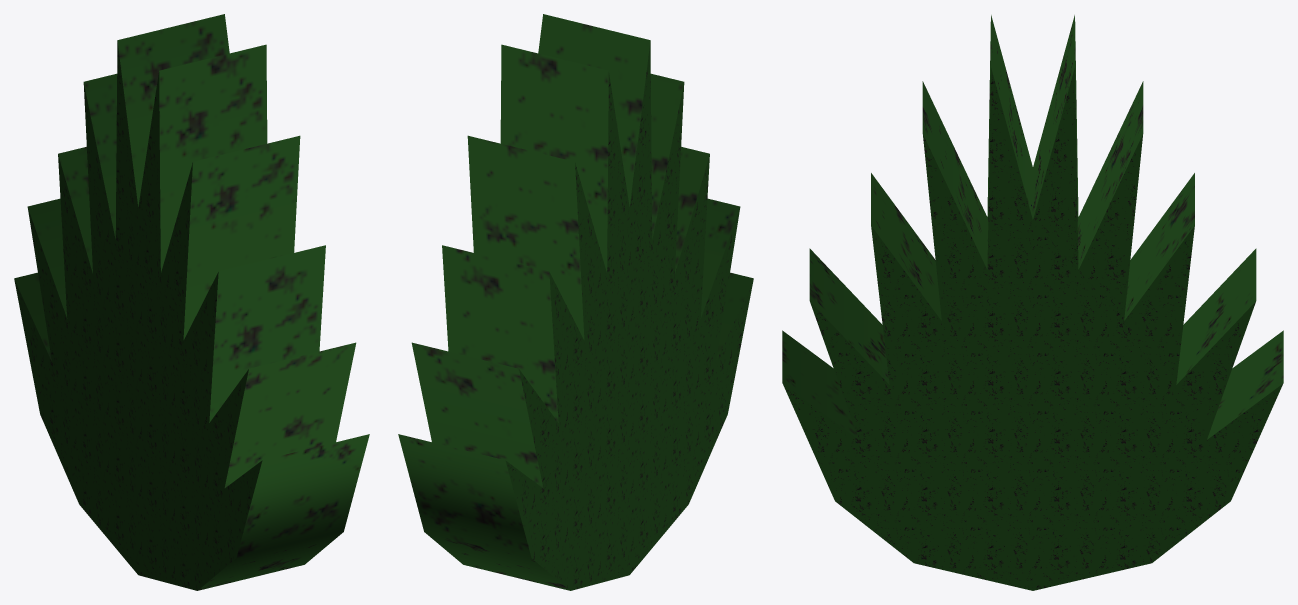
The model's file is Catnip_002.fbx.
3 renders of one model, left to right at view 1: azimuth 30°, elevation 25°; view 2: azimuth 150°, elevation 25°; view 3: azimuth 270°, elevation 25°, orthographic.
Parts seen in each view (by area): view 1: Cylinder003; view 2: Cylinder003; view 3: Cylinder003.
Part boxes in pixels (x1,y1,x2,y2): Cylinder003: (14,14,369,590); Cylinder003: (398,14,753,590); Cylinder003: (782,15,1283,590).
Size of the model in its own units: 16.85 by 77.95 by 67.52.
Materials: 1 (1 with a texture image).
